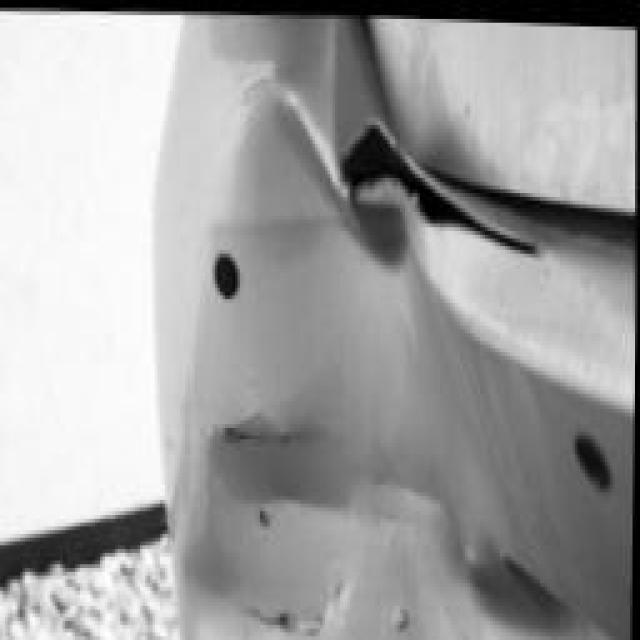Bumper: (125, 42, 577, 639)
